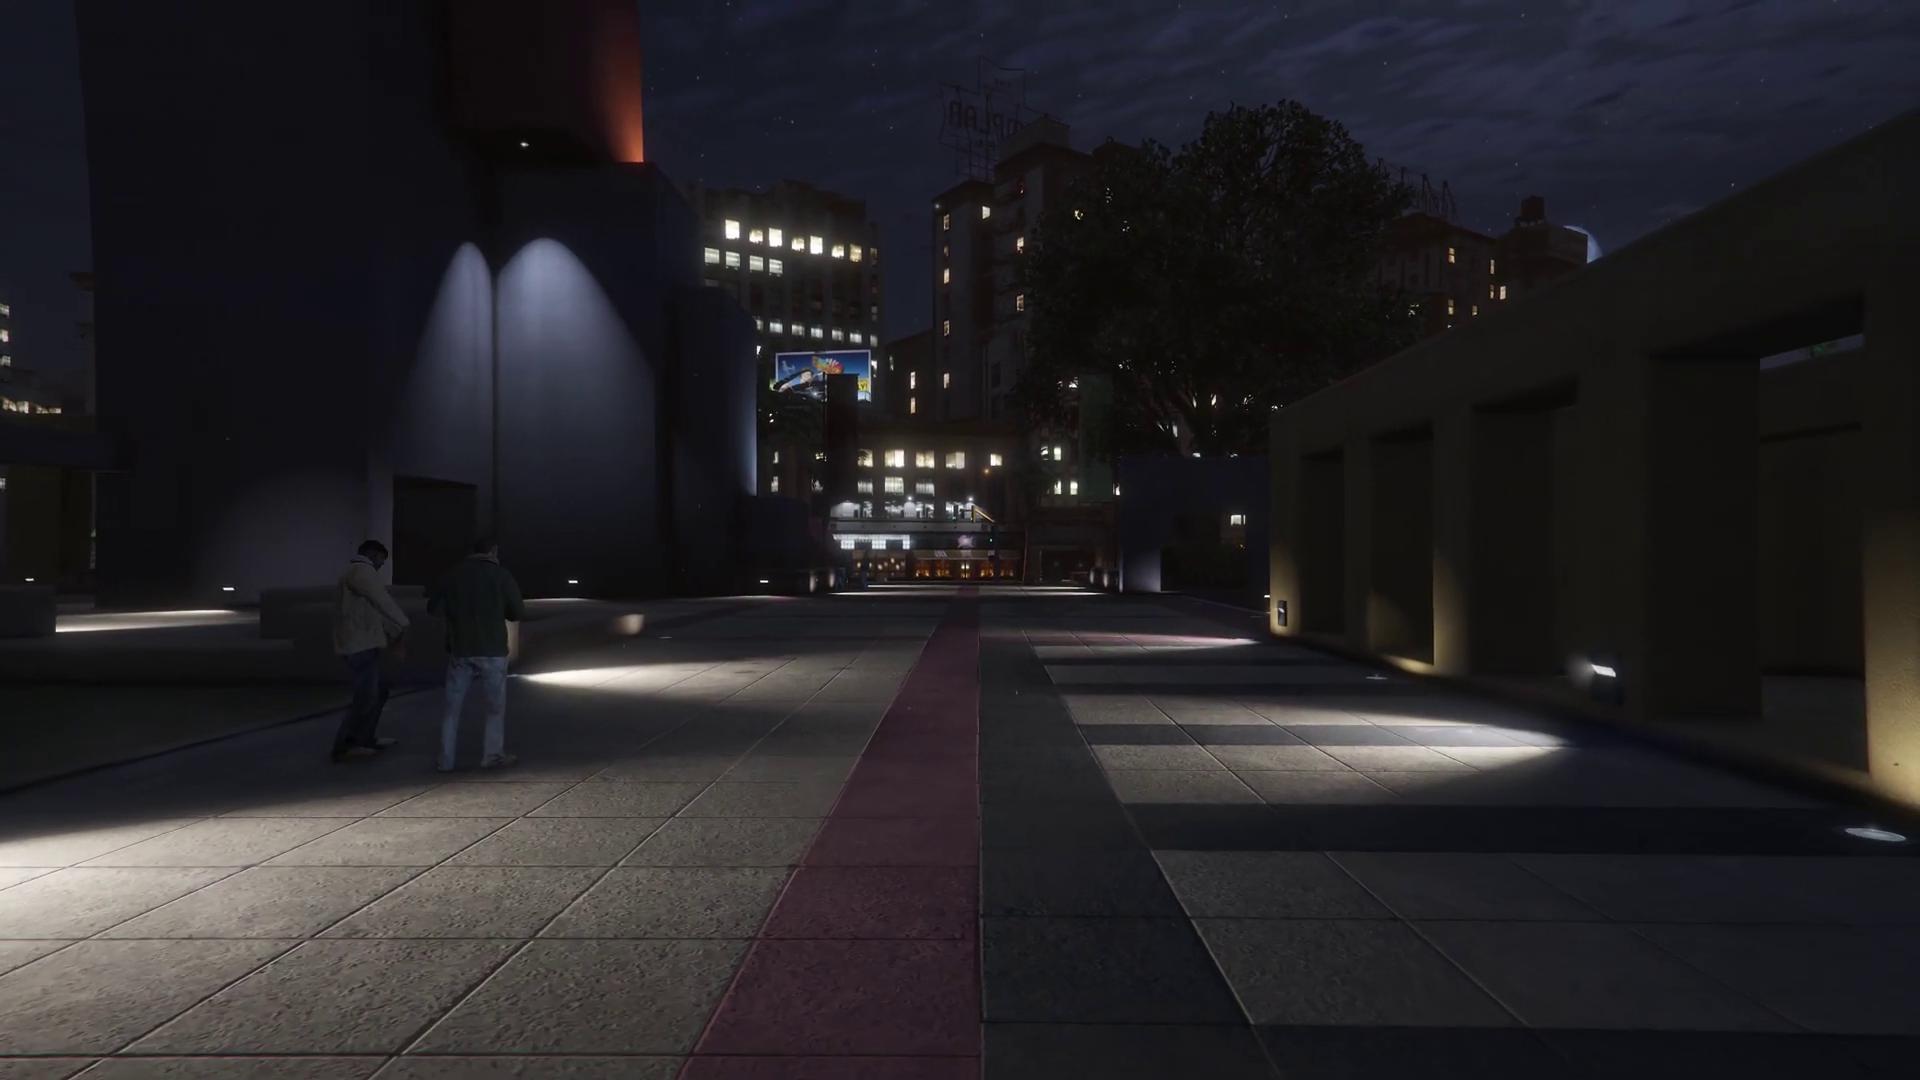person: (427, 536, 519, 766), (332, 542, 406, 757)
